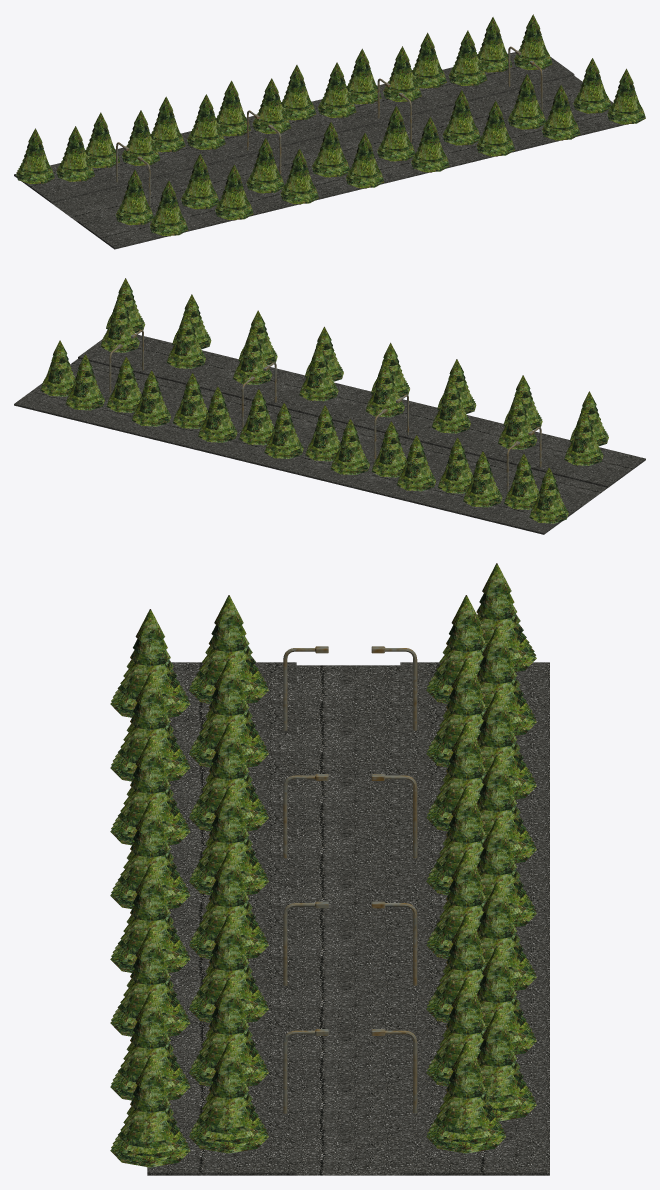
The model's file is menu_screen.fbx.
3 renders of one model, top to bottom at view 1: azimuth 30°, elevation 25°; view 2: azimuth 150°, elevation 25°; view 3: azimuth 270°, elevation 25°, orthographic. The views are drawn at different scales.
Parts seen in each view (by area): view 1: Plane, blade.023, blade.010, blade.025, blade.028, blade.029, blade.005, blade.009, blade.014, blade.027, blade.003, blade.024 (+21 smaller); view 2: Plane, blade.023, blade.003, blade.017, blade.015, blade.020, blade.007, blade.016, blade.019, blade.011, blade.022, blade.018 (+21 smaller); view 3: Plane, blade.001, blade, blade.024, blade.026, blade.031, blade.011, blade.009, blade.007, blade.030, blade.025, blade.027 (+21 smaller).
Boxes of the visible parts, box(x1,y1,x2,y2) form: Plane: box(14, 52, 625, 249); blade.023: box(16, 129, 54, 184); blade.010: box(187, 94, 225, 149); blade.025: box(542, 85, 580, 140); blade.028: box(345, 133, 384, 188); blade.029: box(280, 149, 318, 204); blade.005: box(442, 90, 480, 145); blade.009: box(311, 122, 349, 177); blade.014: box(56, 126, 94, 181); blade.027: box(411, 117, 449, 172); blade.003: box(508, 74, 545, 129); blade.024: box(607, 69, 645, 124); Plane: box(14, 334, 645, 534); blade.023: box(529, 467, 568, 523); blade.003: box(167, 313, 205, 368); blade.017: box(132, 370, 170, 426); blade.015: box(564, 410, 603, 465); blade.020: box(330, 419, 369, 474); blade.007: box(299, 345, 338, 401); blade.016: box(65, 354, 104, 410); blade.019: box(264, 403, 303, 458); blade.011: box(432, 377, 470, 433); blade.022: box(463, 451, 502, 507); blade.018: box(198, 387, 237, 442); Plane: box(147, 662, 549, 1175); blade.001: box(189, 1042, 268, 1153); blade: box(426, 1042, 506, 1153); blade.024: box(110, 1056, 190, 1167); blade.026: box(110, 929, 190, 1036); blade.031: box(110, 610, 190, 717); blade.011: box(189, 723, 268, 831); blade.009: box(189, 787, 268, 895); blade.007: box(189, 851, 268, 958); blade.030: box(110, 673, 190, 781); blade.025: box(110, 992, 190, 1100); blade.027: box(110, 865, 190, 972).
Size of the model in its own units: 12376 by 1206 by 4369.
4 materials, 4 textured.
